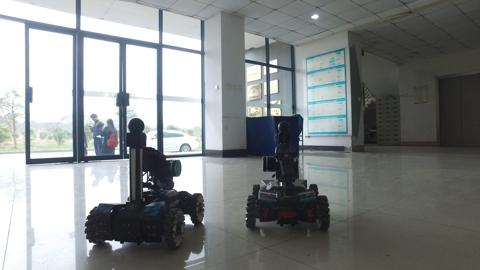chariot: (74, 117, 211, 253), (240, 107, 337, 240)
